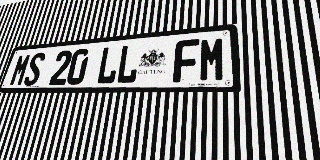0: (65, 48, 90, 85)
2: (49, 50, 73, 85)
F: (173, 39, 199, 83)
L: (115, 44, 141, 84), (95, 46, 121, 84)
M: (199, 36, 226, 82), (8, 53, 32, 86)
S: (22, 52, 46, 86)
